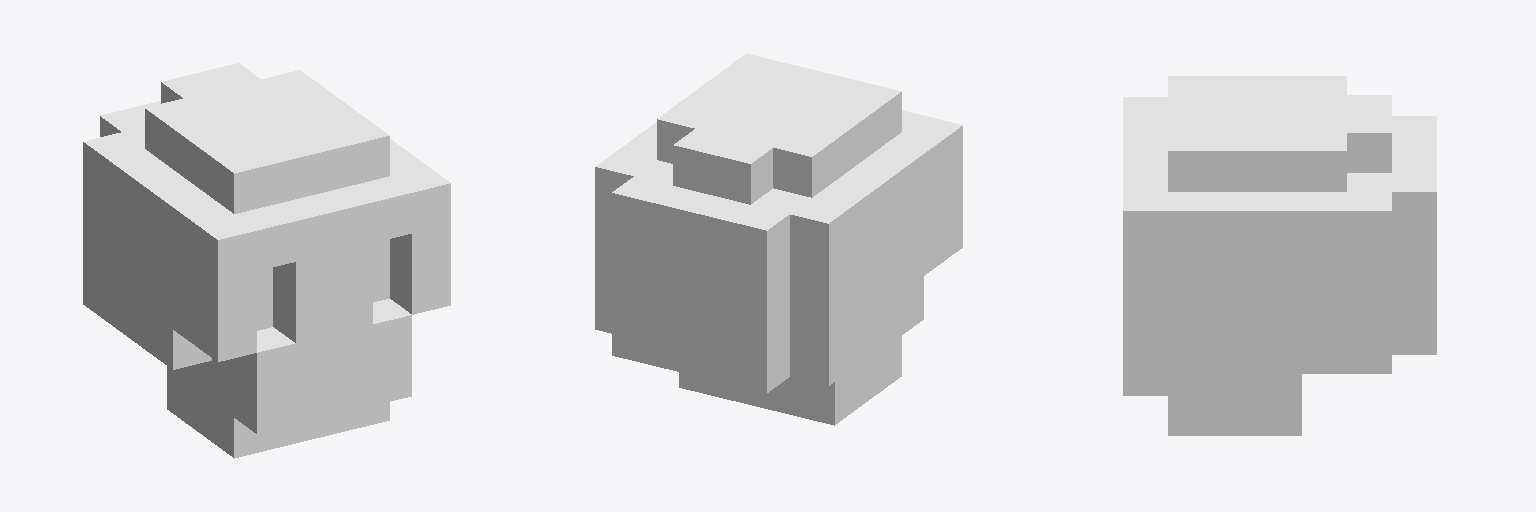
The model's file is skull.obj.
3 views of the same model, side by side, from view 1: azimuth 30°, elevation 25°; view 2: azimuth 150°, elevation 25°; view 3: azimuth 270°, elevation 25° (orthographic).
Size of the model in its own units: 0.75 by 0.875 by 0.875.